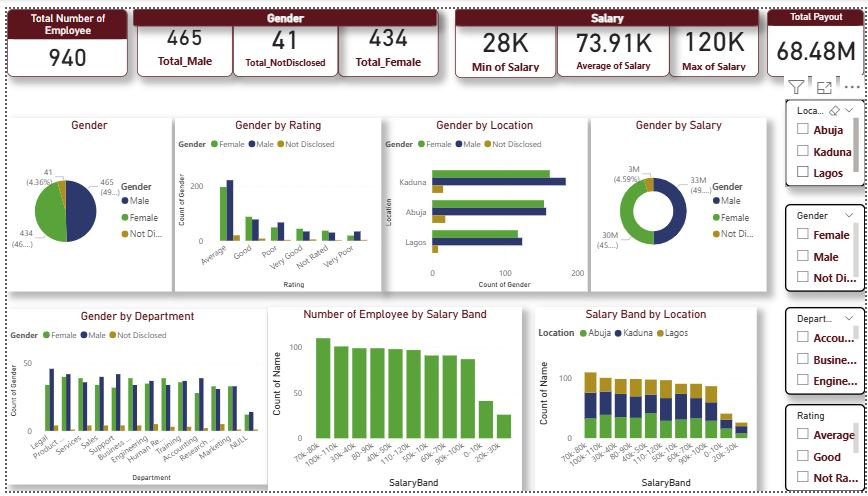

The page's visual inventory and layout, read from the dashboard file:
{"tool":"powerbi","page":{"name":"Page 1","canvas":[1280,720],"ordinal":0},"visuals":[{"type":"card","title":"Total Number of Employee","fields":{"Values":["Palmoria Group emp-data.Name"]},"box":[0,0,180,100.8],"z":0},{"type":"card","fields":{"Values":["Palmoria Group emp-data.Total_Female"]},"box":[493.9,0,149.8,100.8],"z":1000},{"type":"card","fields":{"Values":["Palmoria Group emp-data.Total_Male"]},"box":[193.3,0,142.6,100.8],"z":2000},{"type":"card","fields":{"Values":["Palmoria Group emp-data.Total_Undecide"]},"box":[337,0,157,100.8],"z":3000},{"type":"pieChart","title":"Gender","fields":{"Y":["Palmoria Group emp-data.Gender"],"Category":["Palmoria Group emp-data.Gender"]},"box":[0,163.2,246.1,259.2],"z":4000},{"type":"clusteredColumnChart","title":"Gender by Department","fields":{"Category":["Palmoria Group emp-data.Department"],"Y":["Palmoria Group emp-data.Gender"],"Series":["Palmoria Group emp-data.Gender"]},"box":[0,447.4,389.5,261.8],"z":5000},{"type":"clusteredBarChart","title":"Gender by Location","fields":{"Category":["Palmoria Group emp-data.Location"],"Y":["Palmoria Group emp-data.Gender"],"Series":["Palmoria Group emp-data.Gender"]},"box":[559.2,163.2,306.6,259.2],"z":6000},{"type":"card","fields":{"Values":["Palmoria Group emp-data.Salary"]},"box":[668.6,9.3,150.6,94.1],"z":7000},{"type":"card","fields":{"Values":["Palmoria Group emp-data.Salary"]},"box":[988.6,7.2,133.9,93.6],"z":8000},{"type":"card","fields":{"Values":["Palmoria Group emp-data.Salary"]},"box":[820.8,8.6,168.5,92.2],"z":9000},{"type":"card","title":"Total Payout","fields":{"Values":["Palmoria Group emp-data.TotalPayout"]},"box":[1134.7,0,145.4,100.8],"z":10000},{"type":"textbox","title":"Salary","box":[668.2,0,453.6,25.9],"z":11000},{"type":"columnChart","title":"Salary Band by Location","fields":{"Y":["Palmoria Group emp-data.Name"],"Category":["Palmoria Group emp-data.SalaryBand"],"Series":["Palmoria Group emp-data.Location"]},"box":[787.7,445,331.2,275],"z":12000},{"type":"columnChart","title":"Number of Employee by Salary Band","fields":{"Y":["Palmoria Group emp-data.Name"],"Category":["Palmoria Group emp-data.SalaryBand"]},"box":[389.5,444.7,378.9,275],"z":13000},{"type":"slicer","fields":{"Values":["Palmoria Group emp-data.Location"]},"box":[1160.6,133.9,119.5,131],"z":14000},{"type":"slicer","fields":{"Values":["Palmoria Group emp-data.Rating"]},"box":[1160.6,589,119.5,131],"z":15000},{"type":"slicer","fields":{"Values":["Palmoria Group emp-data.Gender"]},"box":[1160.6,290.9,119.5,131],"z":16000},{"type":"slicer","fields":{"Values":["Palmoria Group emp-data.Department"]},"box":[1160.6,445,119.5,131],"z":17000},{"type":"textbox","title":"Gender","box":[188.6,0,453.6,25.9],"z":18000},{"type":"clusteredColumnChart","title":"Gender by Rating","fields":{"Y":["Palmoria Group emp-data.Gender"],"Series":["Palmoria Group emp-data.Gender"],"Category":["Palmoria Group emp-data.Rating"]},"box":[251.3,163.2,307.9,259.2],"z":19000},{"type":"donutChart","title":"Gender by Salary","fields":{"Y":["Palmoria Group emp-data.Salary"],"Category":["Palmoria Group emp-data.Gender"]},"box":[872.4,163.2,261.8,259.2],"z":19001}]}

Visuals, with their boxes in screenshot pixels (x1, y1, x2, y2), scaled from the page's 1280x720 canvas onto the 868x496 screenshot:
"Total Number of Employee" card: pyautogui.locateOnScreen(0, 0, 122, 69)
card - Palmoria Group emp-data.Total_Female: pyautogui.locateOnScreen(335, 0, 437, 69)
card - Palmoria Group emp-data.Total_Male: pyautogui.locateOnScreen(131, 0, 228, 69)
card - Palmoria Group emp-data.Total_Undecide: pyautogui.locateOnScreen(229, 0, 335, 69)
"Gender" pieChart: pyautogui.locateOnScreen(0, 112, 167, 291)
"Gender by Department" clusteredColumnChart: pyautogui.locateOnScreen(0, 308, 264, 489)
"Gender by Location" clusteredBarChart: pyautogui.locateOnScreen(379, 112, 587, 291)
card - Palmoria Group emp-data.Salary: pyautogui.locateOnScreen(453, 6, 556, 71)
card - Palmoria Group emp-data.Salary: pyautogui.locateOnScreen(670, 5, 761, 69)
card - Palmoria Group emp-data.Salary: pyautogui.locateOnScreen(557, 6, 671, 69)
"Total Payout" card: pyautogui.locateOnScreen(769, 0, 867, 69)
"Salary" textbox: pyautogui.locateOnScreen(453, 0, 761, 18)
"Salary Band by Location" columnChart: pyautogui.locateOnScreen(534, 307, 759, 495)
"Number of Employee by Salary Band" columnChart: pyautogui.locateOnScreen(264, 306, 521, 495)
slicer - Palmoria Group emp-data.Location: pyautogui.locateOnScreen(787, 92, 867, 182)
slicer - Palmoria Group emp-data.Rating: pyautogui.locateOnScreen(787, 406, 867, 495)
slicer - Palmoria Group emp-data.Gender: pyautogui.locateOnScreen(787, 200, 867, 291)
slicer - Palmoria Group emp-data.Department: pyautogui.locateOnScreen(787, 307, 867, 397)
"Gender" textbox: pyautogui.locateOnScreen(128, 0, 435, 18)
"Gender by Rating" clusteredColumnChart: pyautogui.locateOnScreen(170, 112, 379, 291)
"Gender by Salary" donutChart: pyautogui.locateOnScreen(592, 112, 769, 291)
